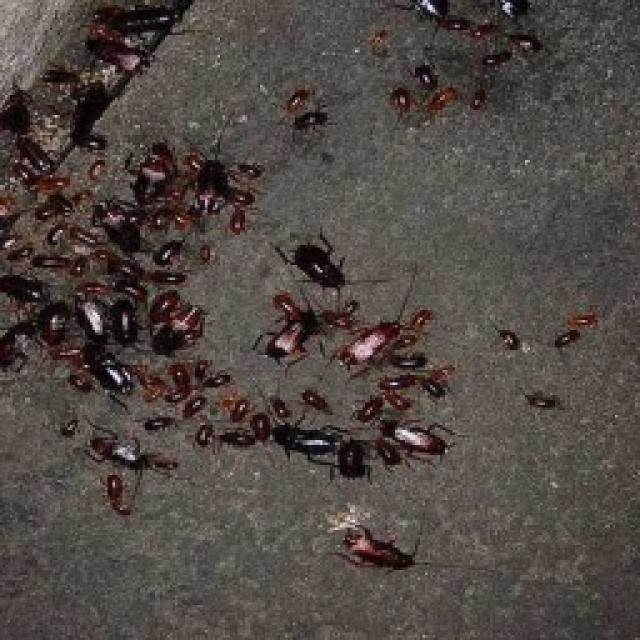cockroach: (325, 516, 442, 572), (279, 225, 356, 297), (66, 336, 138, 399), (148, 291, 208, 361), (69, 75, 120, 152), (94, 194, 148, 266), (84, 417, 148, 475), (130, 131, 174, 215), (375, 418, 451, 466), (84, 36, 158, 84), (102, 3, 194, 41), (262, 307, 322, 364), (63, 290, 112, 354), (266, 417, 338, 460), (0, 312, 39, 384), (0, 266, 61, 312), (329, 433, 375, 487), (34, 301, 76, 355), (196, 151, 227, 224), (109, 294, 144, 354), (392, 0, 461, 27), (19, 141, 71, 175), (279, 77, 320, 119), (364, 436, 411, 472), (286, 103, 337, 136), (0, 92, 33, 138), (149, 282, 185, 324), (102, 478, 136, 519), (405, 58, 441, 94), (152, 448, 186, 484), (352, 393, 389, 426), (386, 78, 416, 116), (28, 253, 77, 276), (420, 91, 456, 122), (32, 170, 78, 194), (56, 414, 88, 448), (64, 370, 98, 402), (519, 386, 562, 411), (494, 329, 534, 355), (458, 24, 509, 44), (169, 363, 198, 398), (436, 11, 479, 34), (428, 359, 467, 384), (370, 372, 421, 391), (230, 206, 260, 238), (69, 223, 104, 250), (42, 189, 75, 217), (419, 379, 454, 405), (154, 235, 185, 264), (233, 392, 267, 418), (562, 314, 606, 334), (215, 431, 261, 449), (200, 370, 241, 390), (146, 207, 176, 234), (162, 386, 196, 409), (187, 419, 218, 444), (476, 51, 518, 69), (236, 156, 270, 178), (150, 270, 196, 286), (170, 208, 199, 233), (146, 411, 180, 432), (179, 397, 210, 420), (551, 333, 581, 355), (90, 153, 112, 182), (468, 86, 487, 119), (386, 392, 420, 408), (225, 193, 259, 207), (205, 247, 218, 265)
